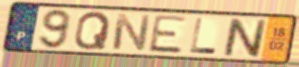9: (37, 8, 73, 51)
E: (146, 14, 190, 56)
L: (188, 16, 219, 55)
N: (222, 17, 268, 59), (110, 12, 153, 52)
Q: (72, 10, 113, 51)
